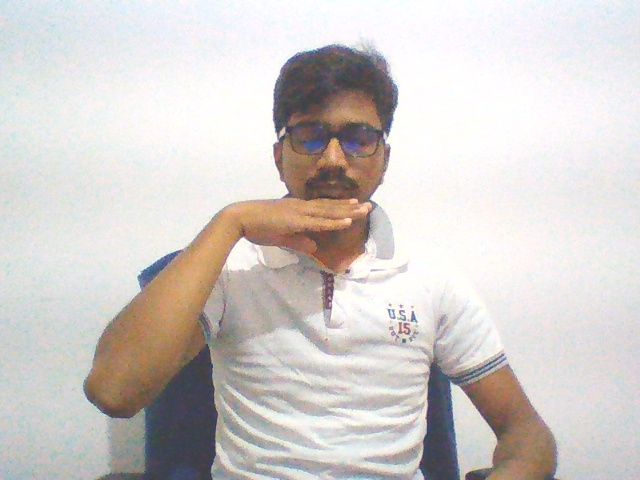elephant: (215, 188, 386, 262)
